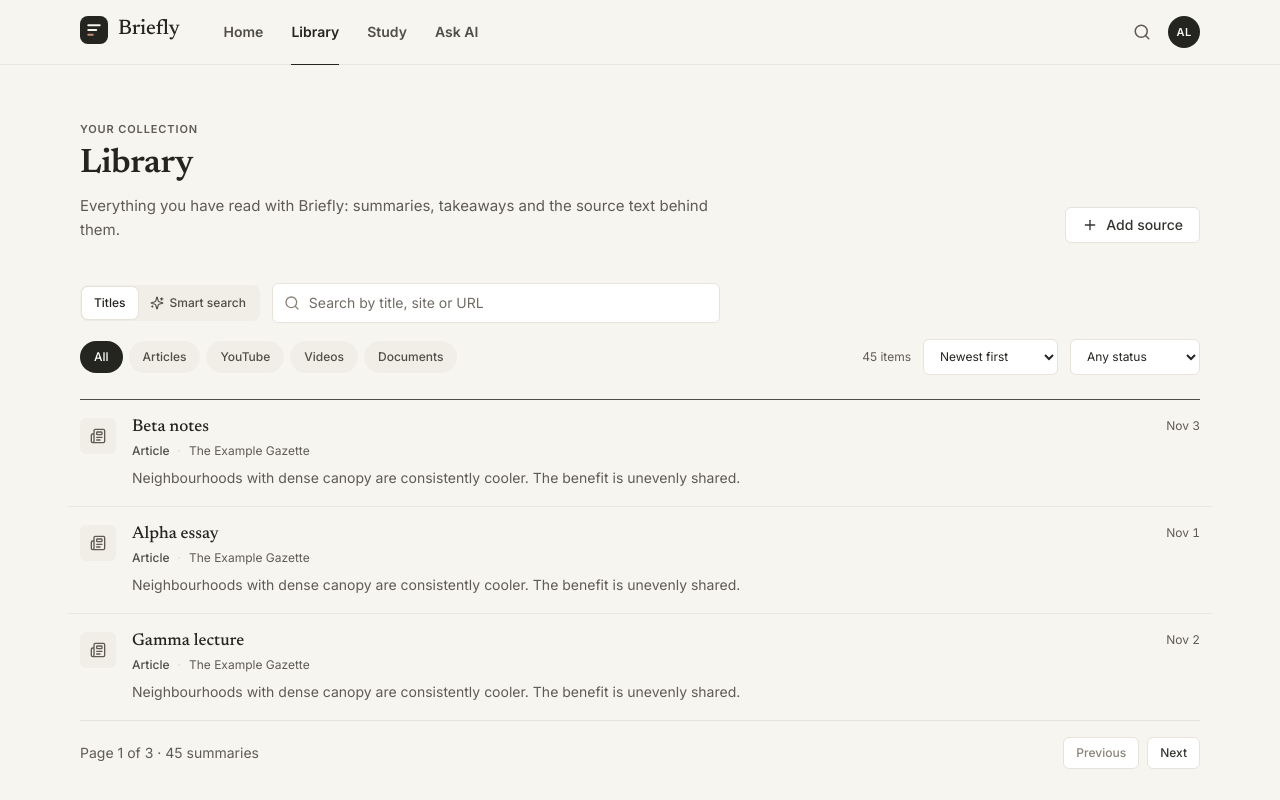
it: Library sorting and search links › says when a non-default order only applies to the current page
Expected: the link "Beta notes" is shown, left=68, top=400, right=1212, bottom=506
Select "Title A–Z" in the dropdown named "Sort" at (990, 357), box left=923, top=339, right=1058, bottom=375
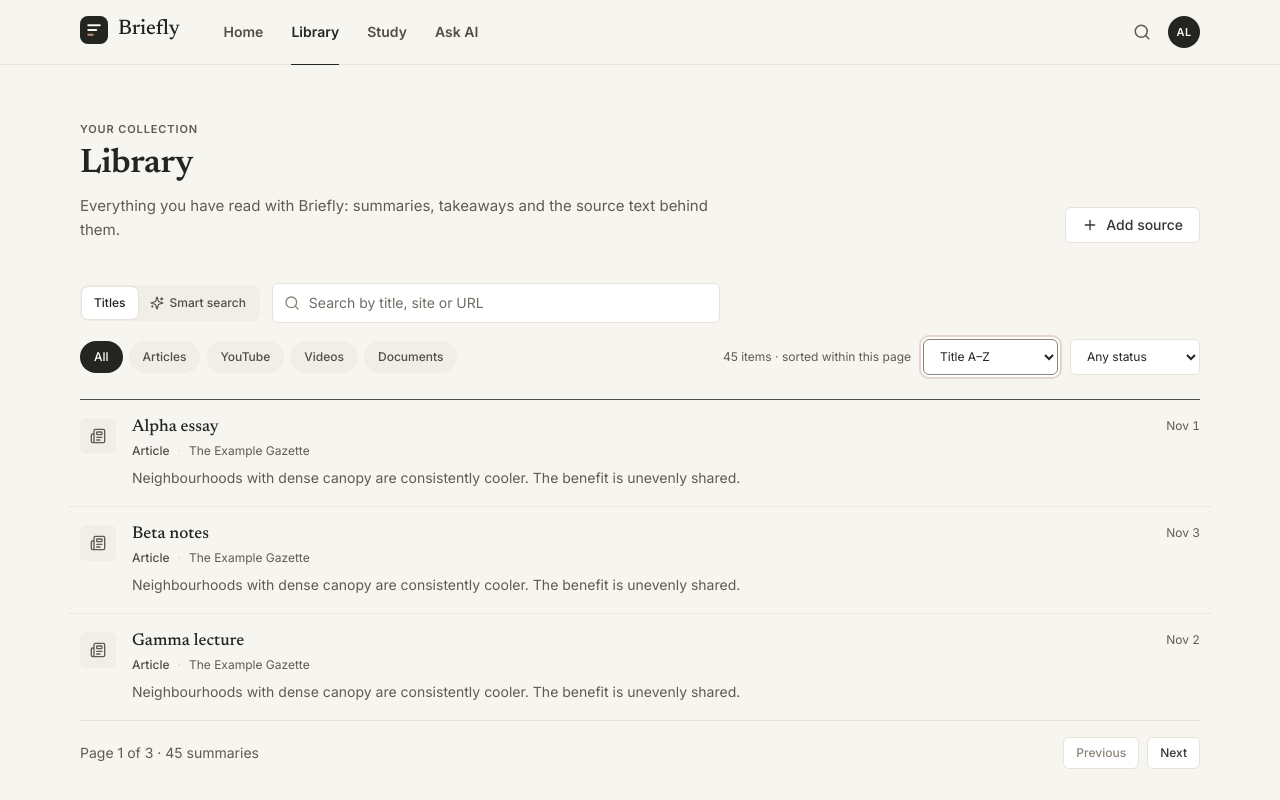
Expected: the text "45 items · sorted within this page" is shown, left=723, top=349, right=911, bottom=365
